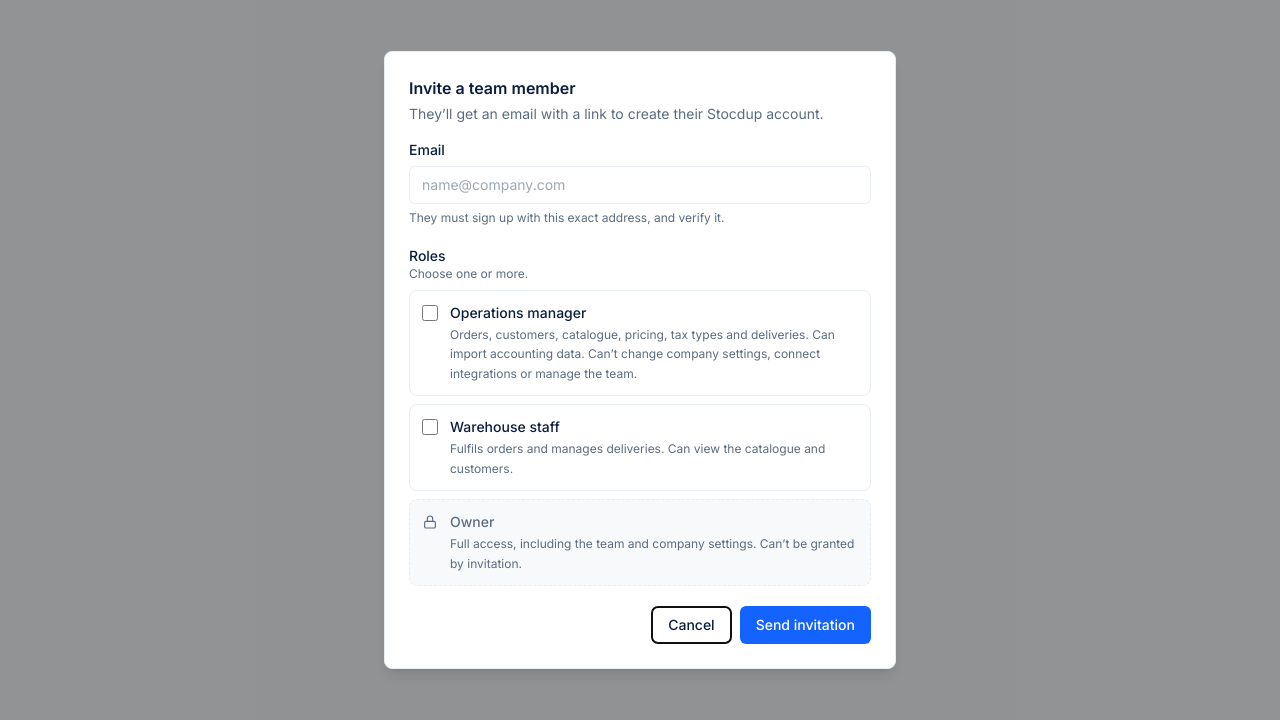
Test case: InviteTeamMemberModal › asks for a role before sending anything
Type "sam@vine.test" into the field labelled "Email". click: (640, 185)
box: [409,166,871,204]
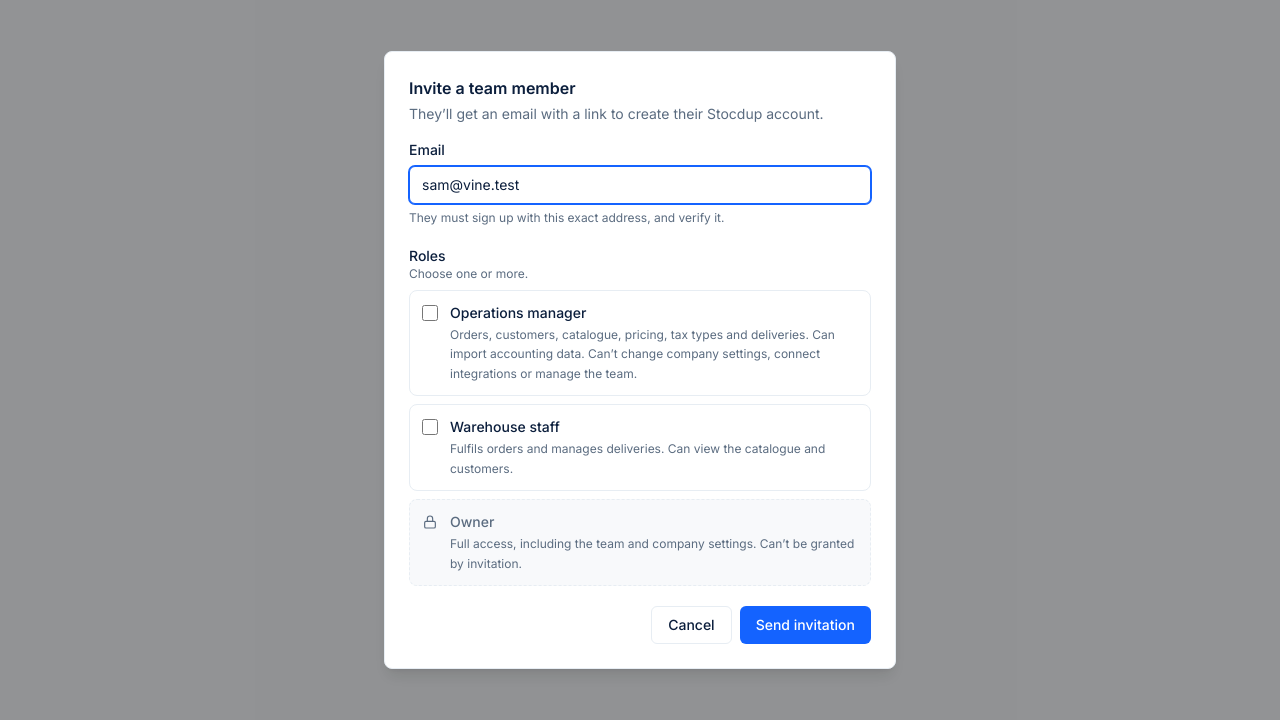
Click the button "Send invitation". click: (805, 625)
box: [740,606,871,644]
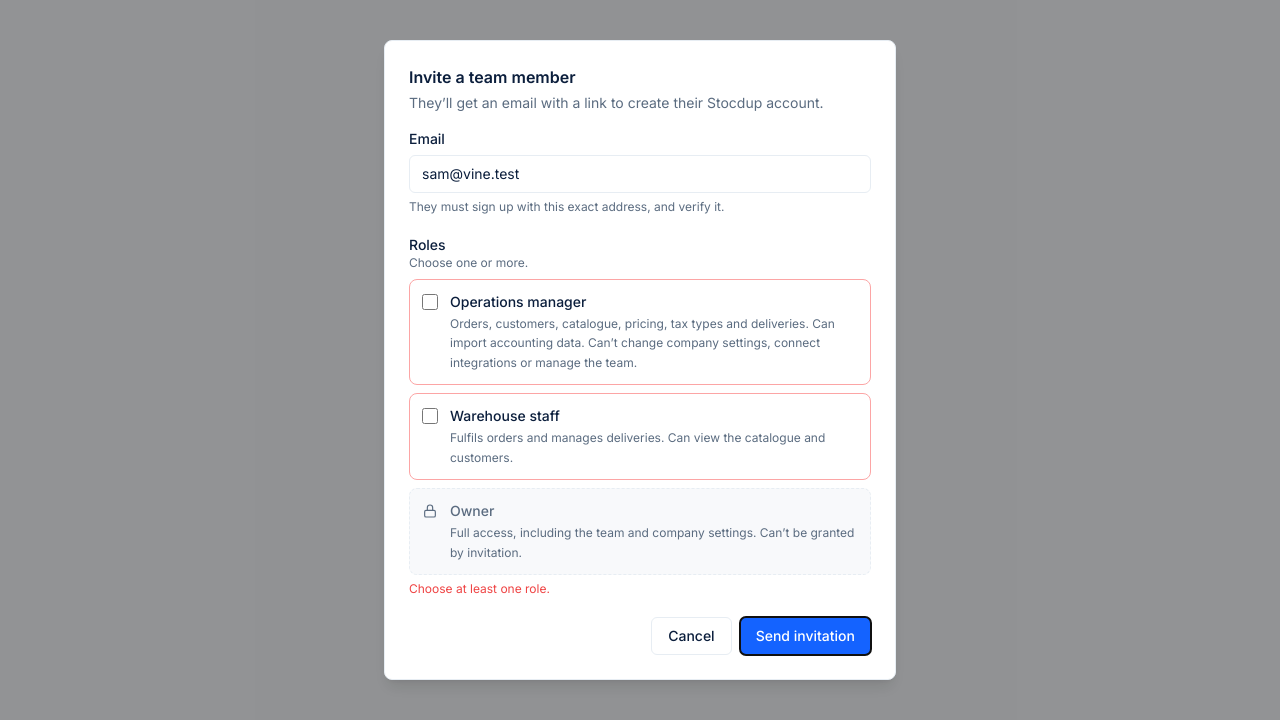
Now the text "Choose at least one role." is shown, box [409,581,550,596]
